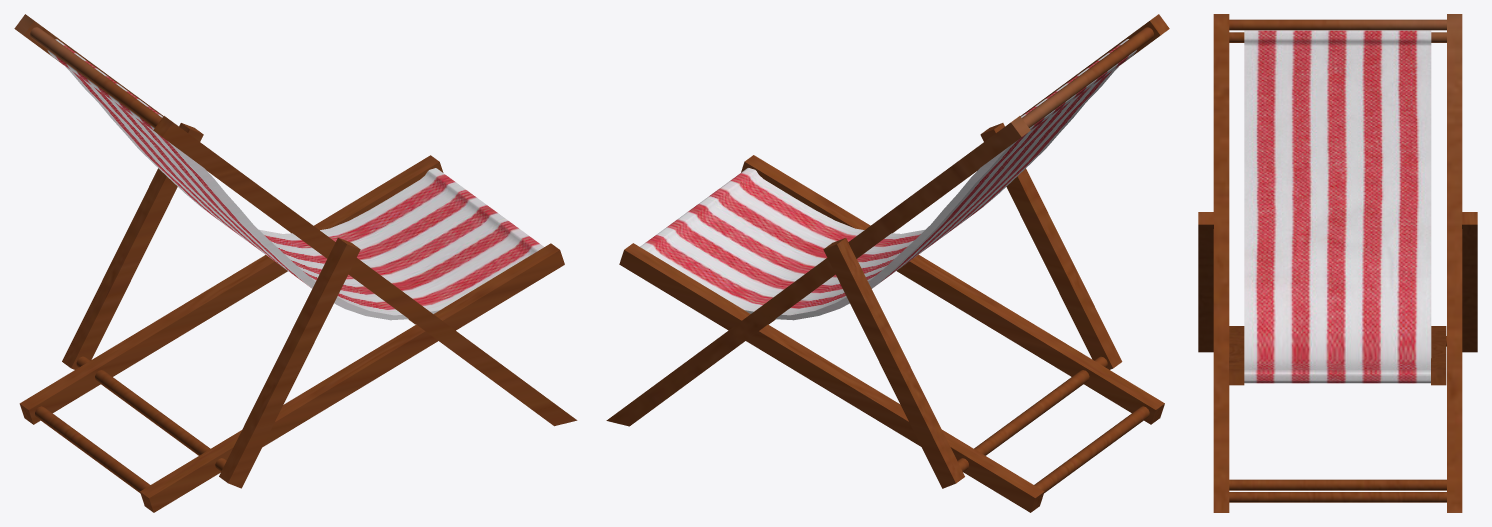
Rendered from beach_chair.glb.
3 views of the same model, side by side, from view 1: azimuth 30°, elevation 25°; view 2: azimuth 150°, elevation 25°; view 3: azimuth 270°, elevation 25° (orthographic). The views are drawn at different scales.
Visible parts, largest first — view 1: pCube237, pCube226, pCube227, pCube224, pCube225, pCube228, pCube232, pCube231, pCube235, pCube229; view 2: pCube237, pCube227, pCube226, pCube229, pCube228, pCube225, pCube232, pCube231, pCube235, pCube224; view 3: pCube237, pCube224, pCube229, pCube232, pCube238, pCube233, pCube225, pCube228, pCube226, pCube227, pCube234.
Part boxes in pixels (box(x1,y1,x2,y2)): pCube237: box(47, 39, 543, 320); pCube226: box(140, 243, 564, 512); pCube227: box(19, 155, 443, 424); pCube224: box(153, 116, 577, 426); pCube225: box(219, 237, 360, 488); pCube228: box(62, 123, 203, 369); pCube232: box(30, 27, 161, 127); pCube231: box(76, 356, 226, 471); pCube235: box(35, 406, 150, 493); pCube229: box(14, 14, 415, 324); pCube237: box(640, 39, 1136, 320); pCube227: box(619, 243, 1044, 512); pCube226: box(741, 155, 1164, 424); pCube229: box(606, 116, 1030, 426); pCube228: box(823, 238, 964, 488); pCube225: box(980, 123, 1122, 369); pCube232: box(1022, 27, 1153, 127); pCube231: box(957, 356, 1107, 471); pCube235: box(1034, 406, 1149, 493); pCube224: box(768, 14, 1169, 324); pCube237: box(1244, 30, 1431, 383); pCube224: box(1213, 14, 1229, 512); pCube229: box(1447, 14, 1462, 512); pCube232: box(1229, 19, 1446, 30); pCube238: box(1229, 479, 1446, 490); pCube233: box(1229, 492, 1446, 502); pCube225: box(1198, 212, 1213, 352); pCube228: box(1462, 212, 1477, 352); pCube226: box(1229, 326, 1244, 385); pCube227: box(1431, 326, 1446, 385); pCube234: box(1229, 32, 1446, 42).
Bounding box in the file's own units: 0.1006 × 0.091 × 0.069.
Materials: 2 (2 with a texture image).
